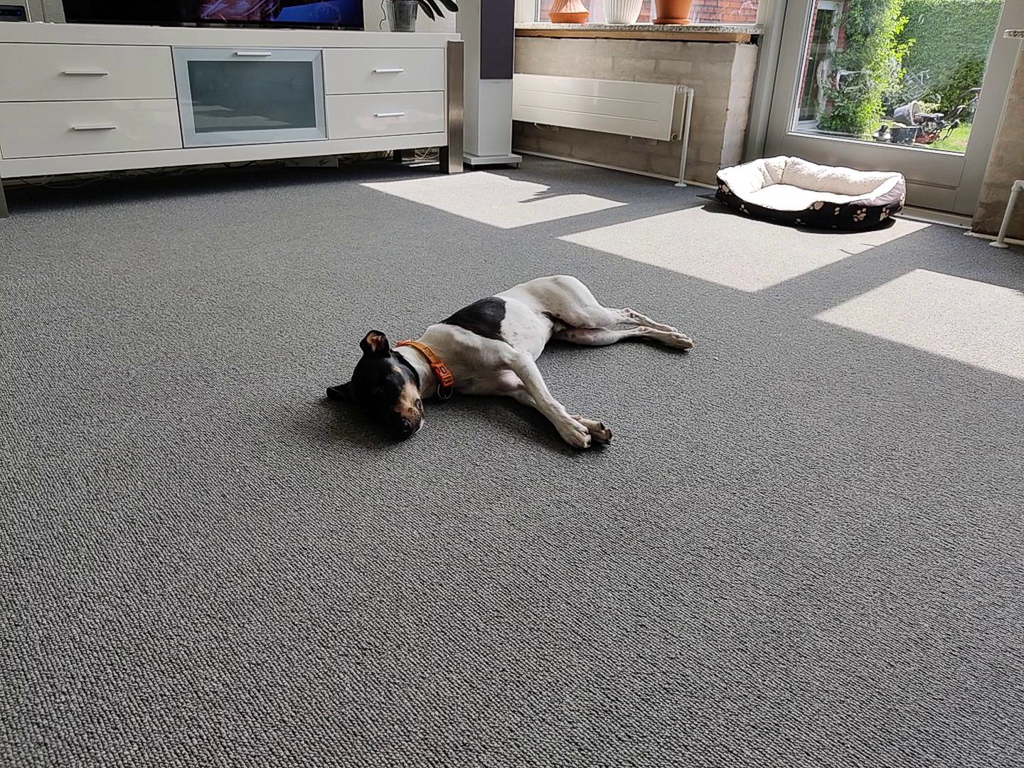Dog: (301, 270, 730, 494)
Humanoid: (866, 118, 899, 148), (546, 0, 593, 17)
